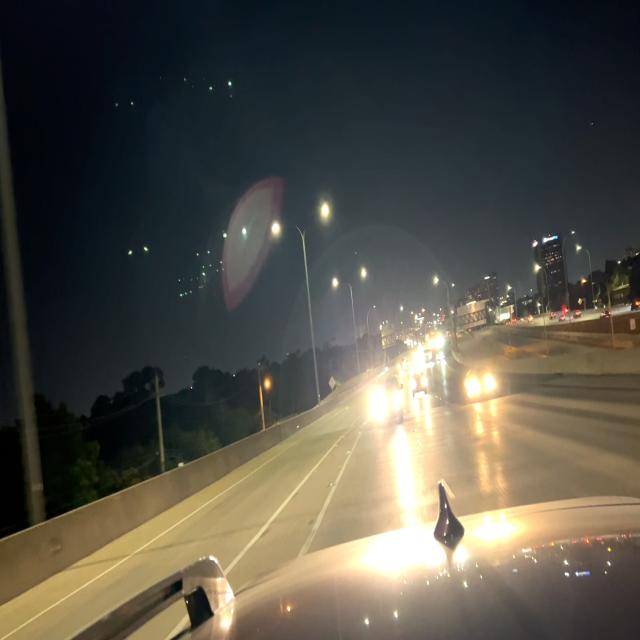back-of-sign: (454, 300, 487, 332), (381, 325, 398, 351), (327, 374, 336, 392)
